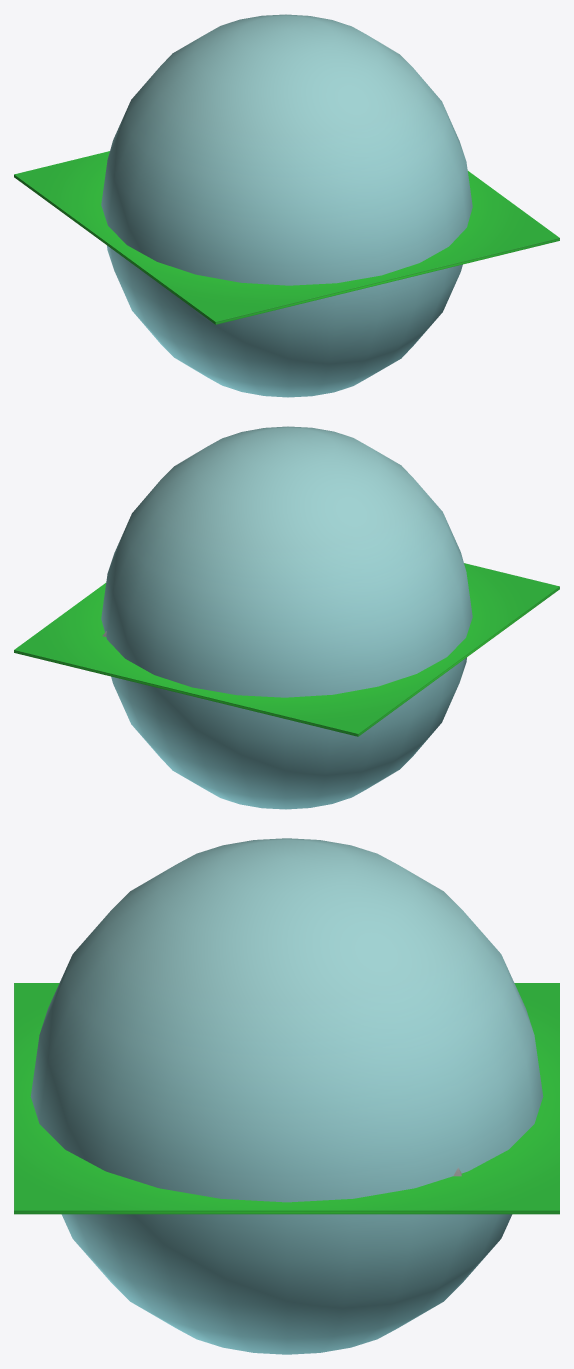
3 renders of one model, top to bottom at view 1: azimuth 30°, elevation 25°; view 2: azimuth 150°, elevation 25°; view 3: azimuth 270°, elevation 25°, orthographic. The views are drawn at different scales.
Visible parts, largest first — view 1: Object_2, Object_3; view 2: Object_2, Object_3; view 3: Object_2, Object_3.
Boxes of the visible parts, <box> form: Object_2: <box>101,14,472,397</box>; Object_3: <box>14,151,559,324</box>; Object_2: <box>101,426,472,809</box>; Object_3: <box>14,563,559,736</box>; Object_2: <box>30,838,543,1354</box>; Object_3: <box>14,983,559,1214</box>.
Bounding box in the file's own units: 532 × 518 × 540.
4 materials, 4 textured.
